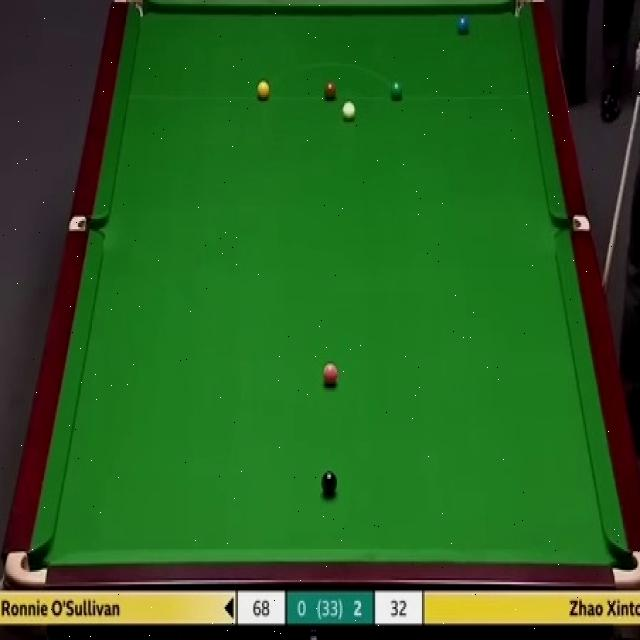black-ball: (322, 470, 338, 496)
blue-ball: (457, 15, 469, 32)
brown-ball: (323, 82, 337, 100)
green-ball: (390, 78, 404, 103)
pink-ball: (322, 360, 339, 390)
white-ball: (341, 101, 357, 122)
yellow-ball: (256, 79, 270, 101)
